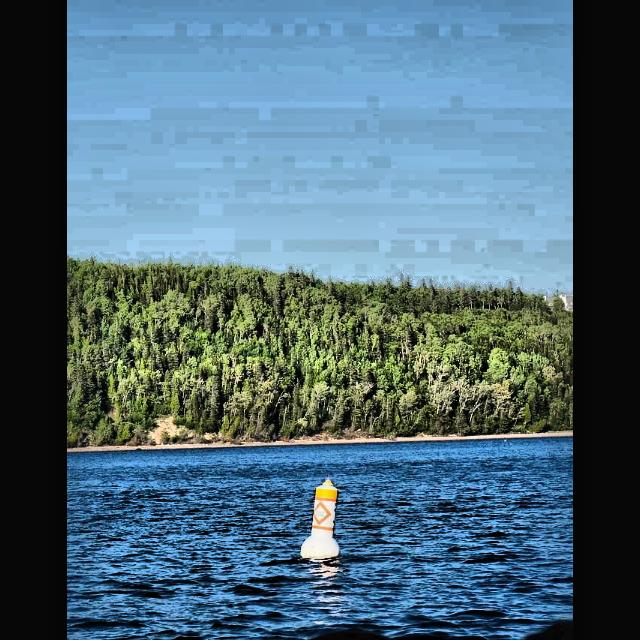buoy: (300, 474, 344, 568)
